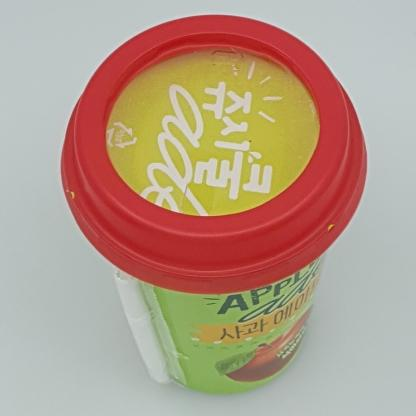--------: (60, 15, 366, 395)
